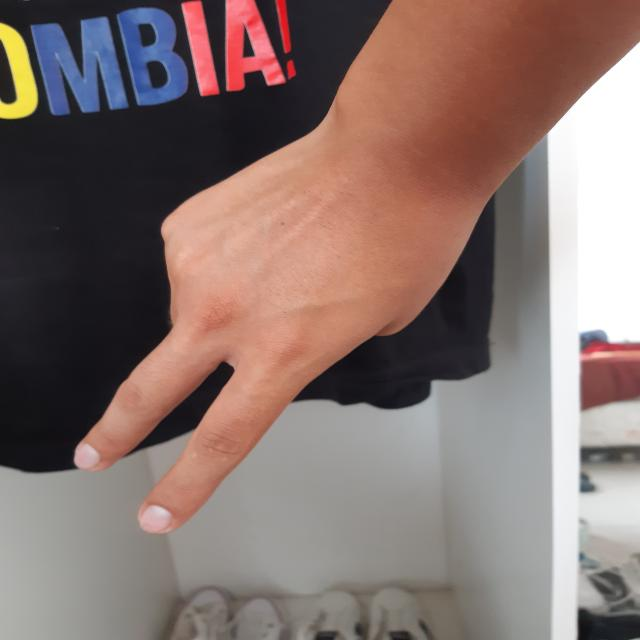EYE: (65, 128, 489, 539)
